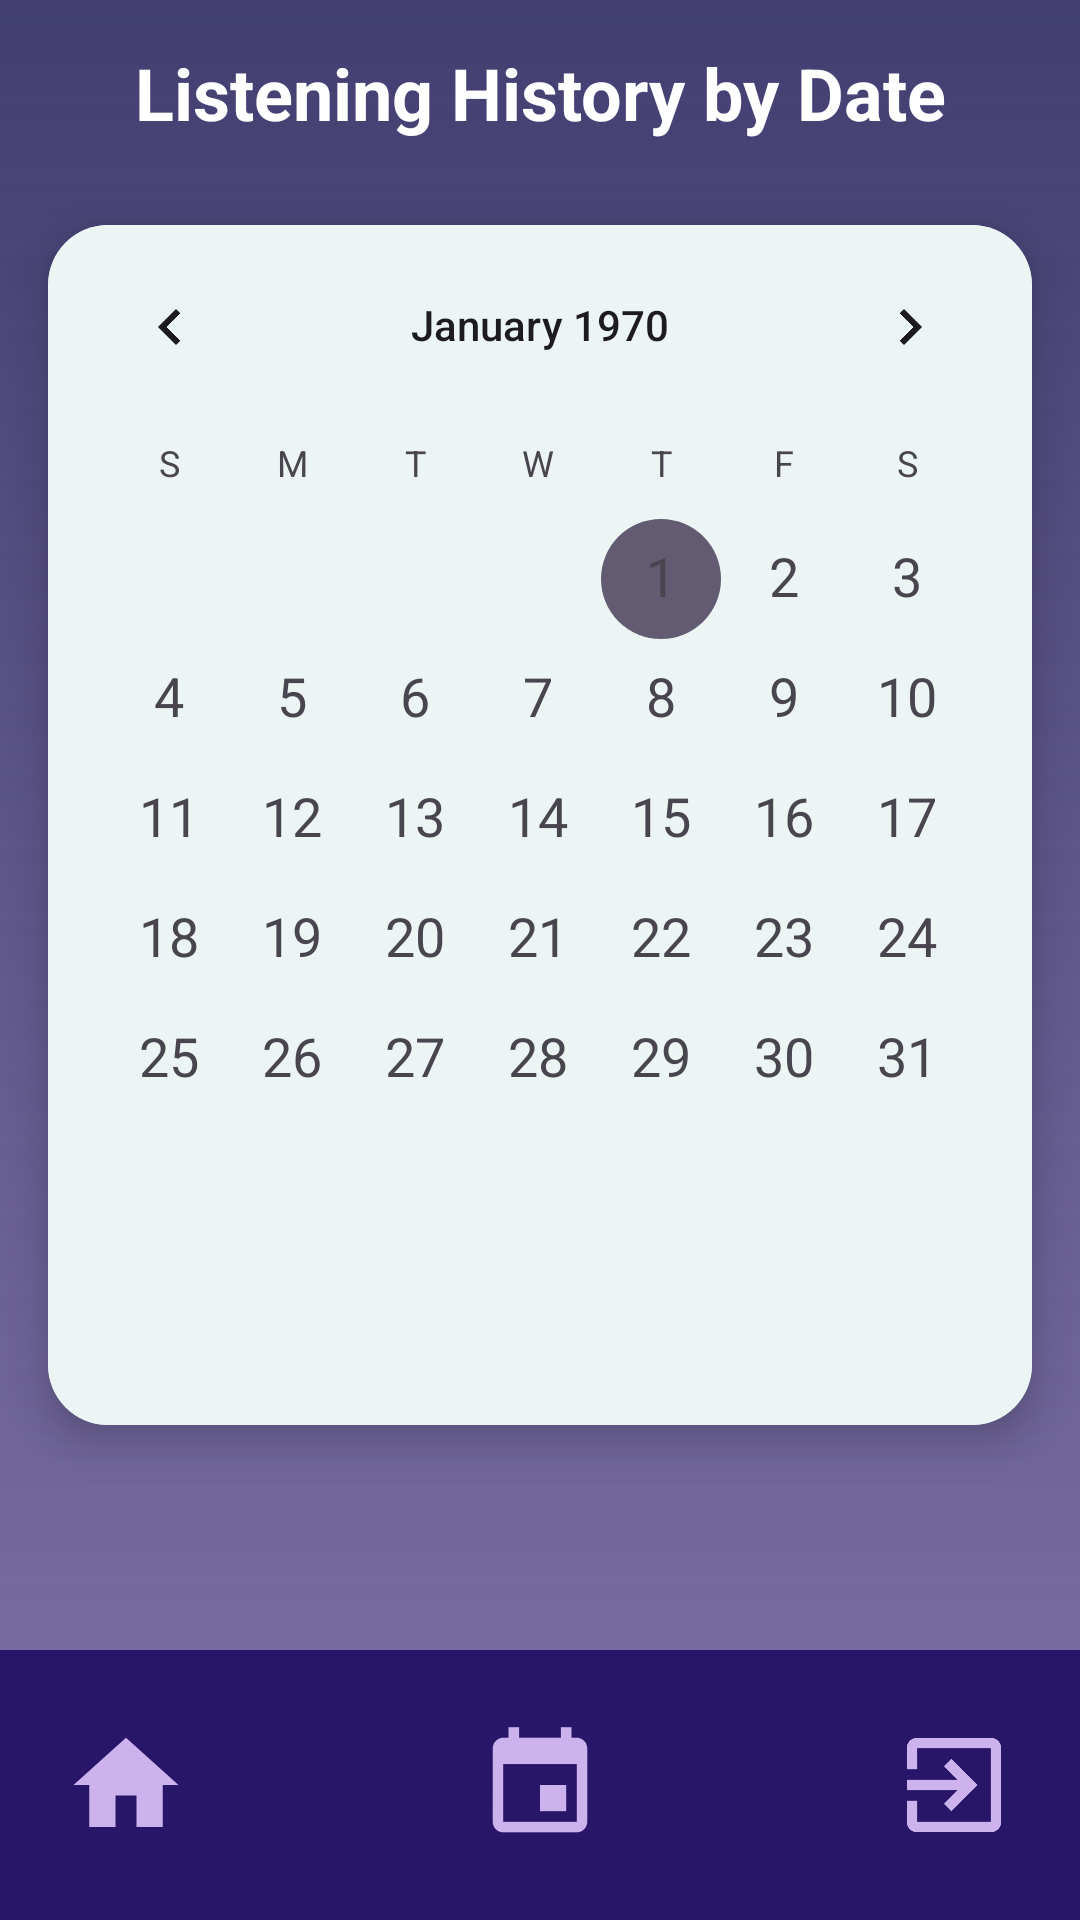

Icons on this 1080×1920 Android screen, each with the point to tap as [x,y]:
Calendar: [540,1780]
exit to app: [954,1785]
home: [126,1782]
